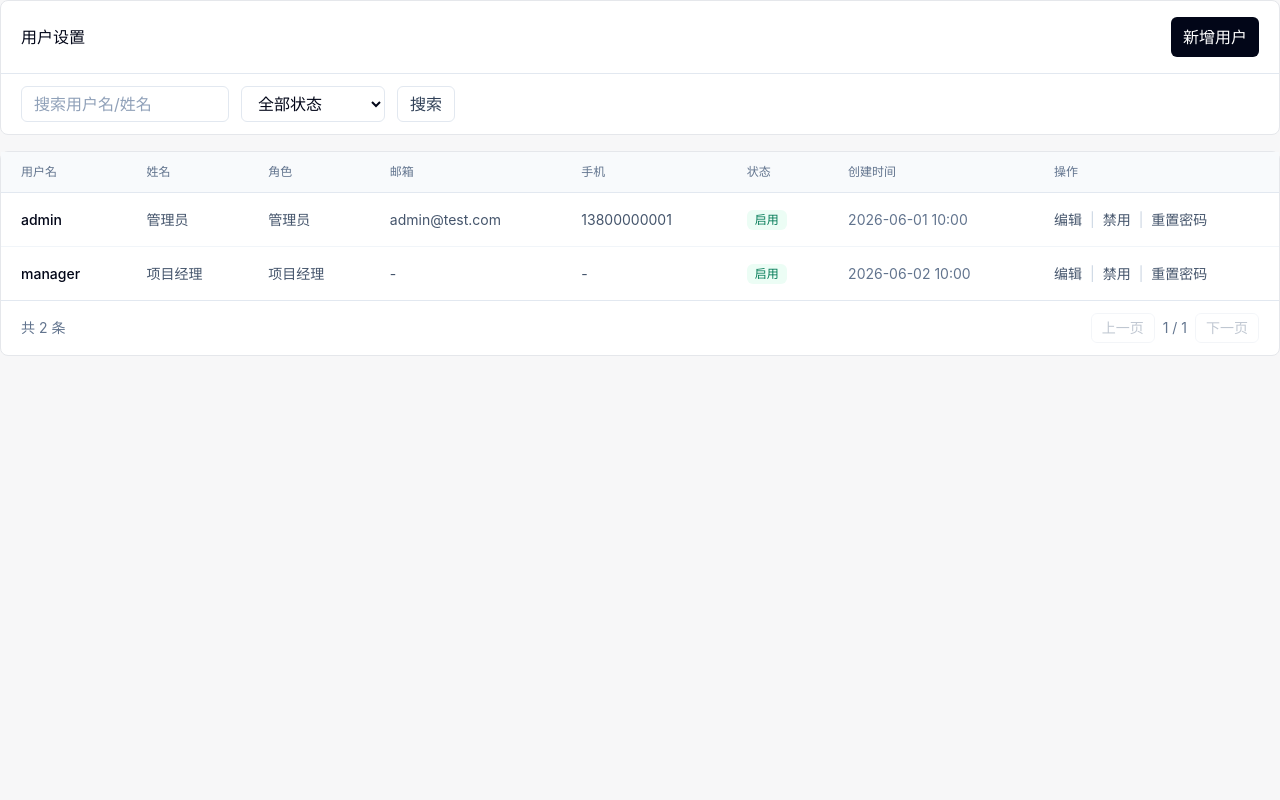
Test: UserSettingsView › resets user password
# 点击"重置密码"
Click the button "重置密码" in the row of "admin@test.com": coordinates (1179, 220) [1151,210,1207,230]
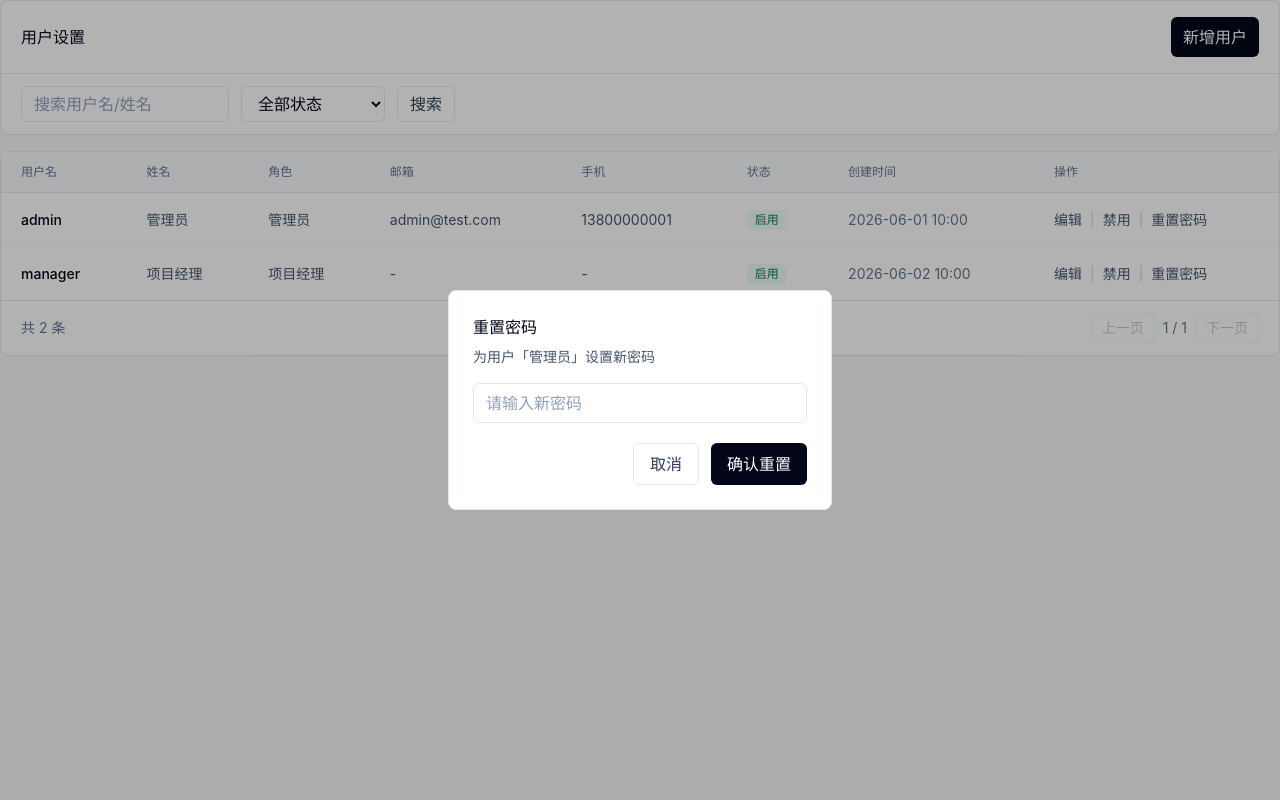
Check: the text "管理员" is shown, box [126,192,248,246]
In the password field with placeholder "请输入新密码": coordinates (640, 403) [473,383,807,423], type "newpass456"
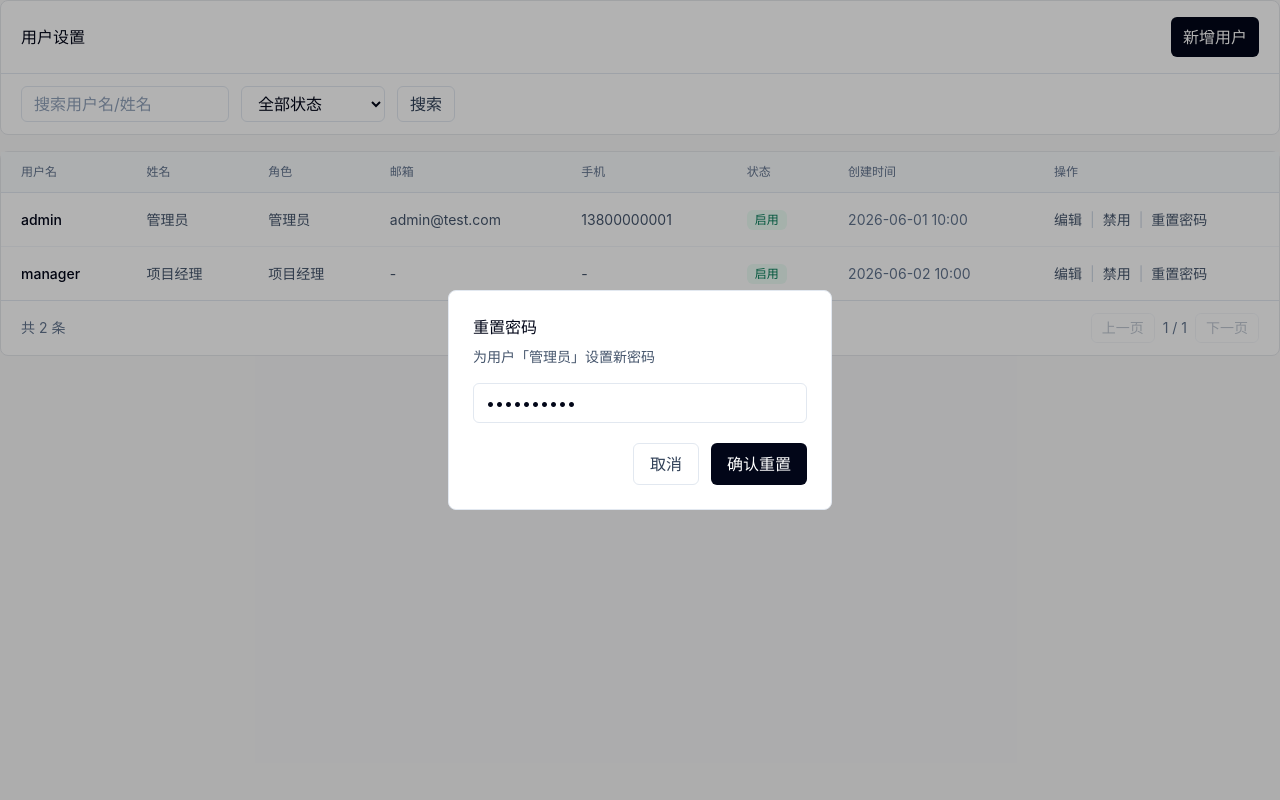
Click the button "确认重置": coordinates (759, 464) [711,443,807,485]
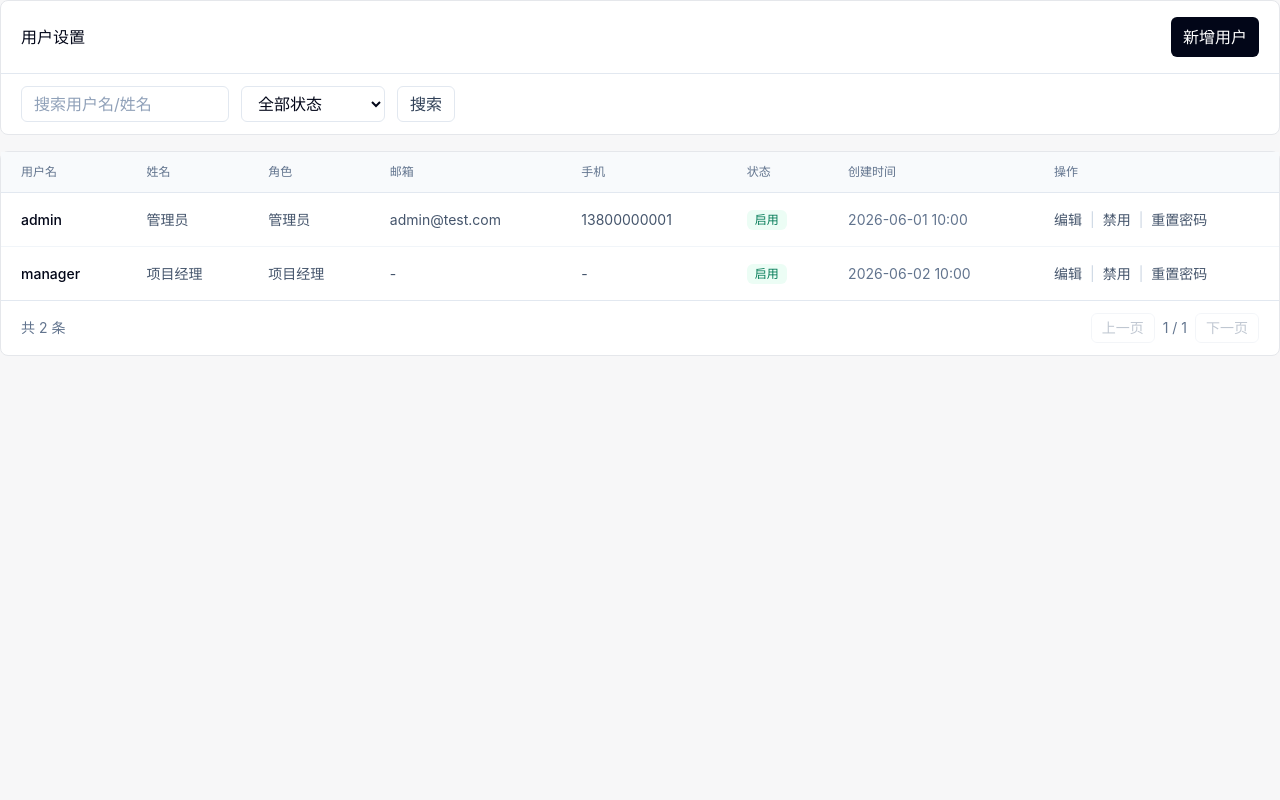
Check: no elements with class "fixed" are shown
